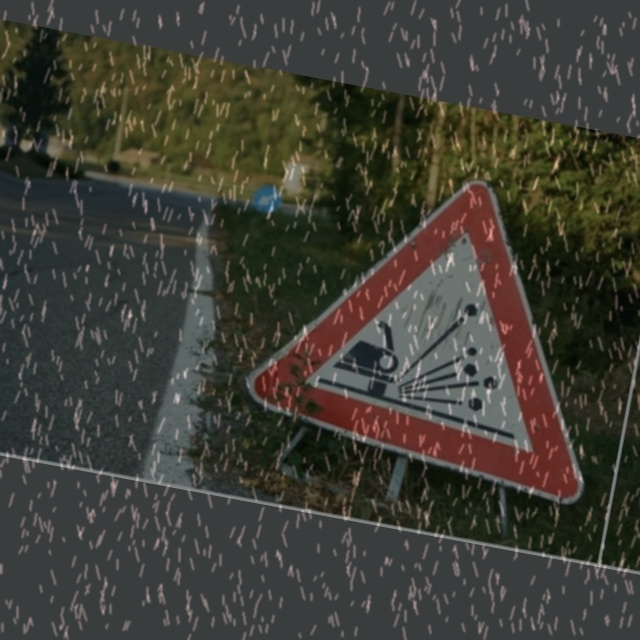Loose_Gravel: (251, 146, 628, 503)
